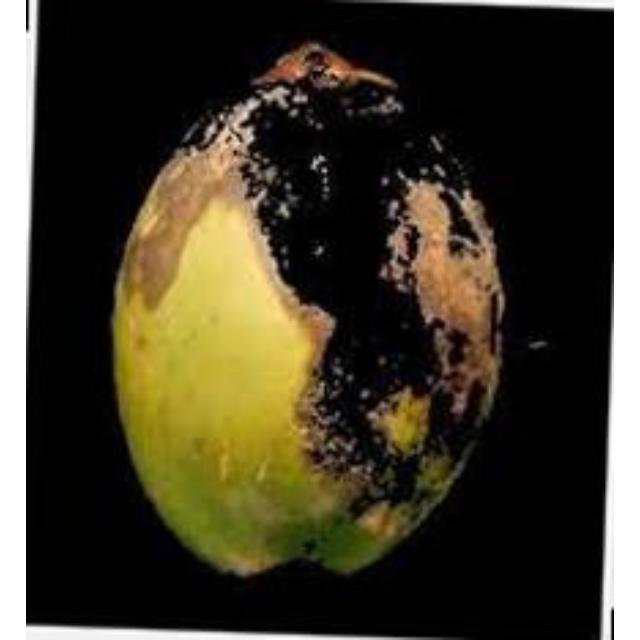damaged: (114, 41, 505, 574)
